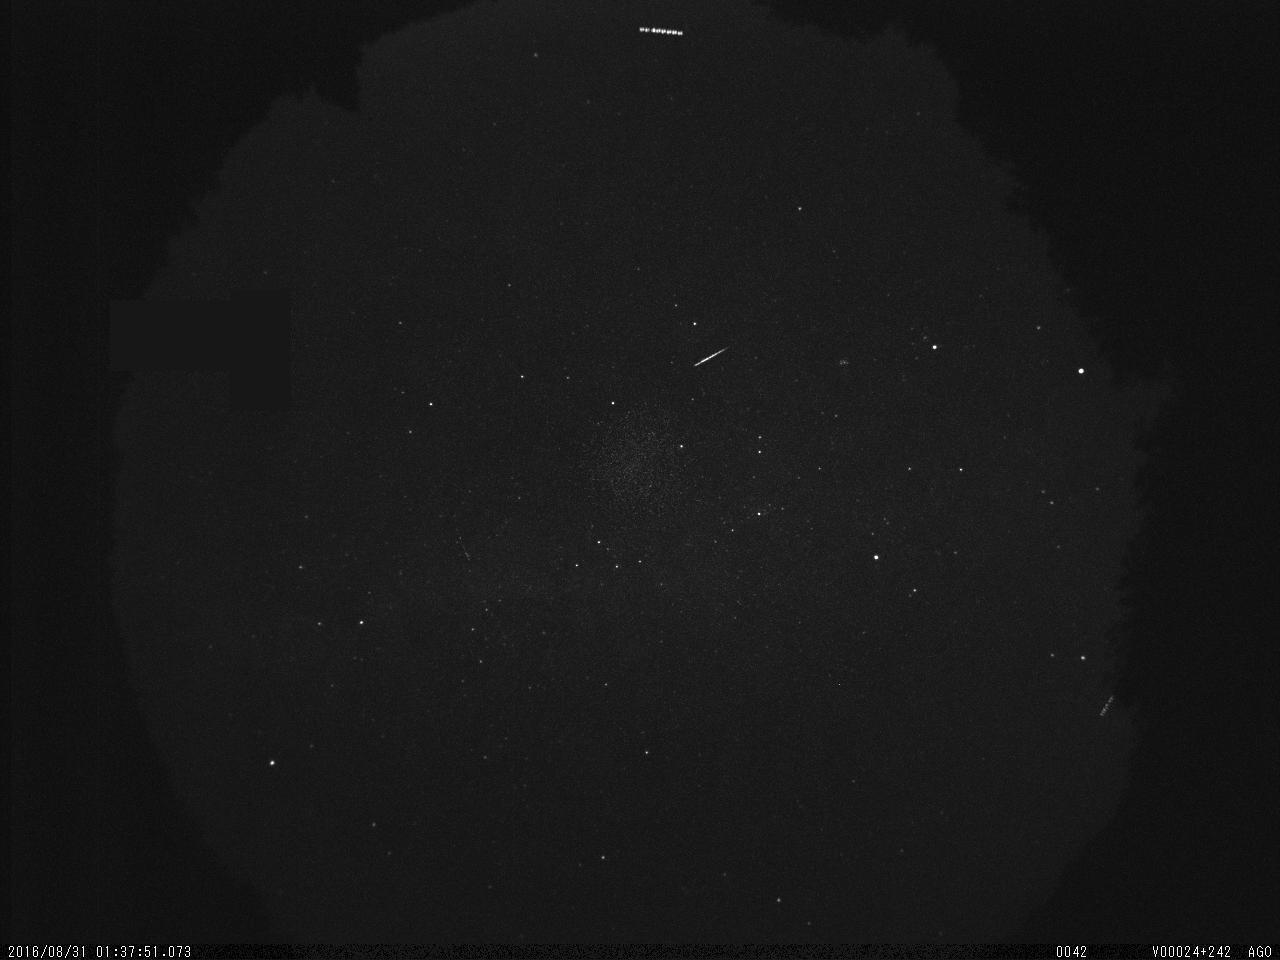meteor: (683, 340, 741, 377)
satelite: (633, 22, 696, 44)
